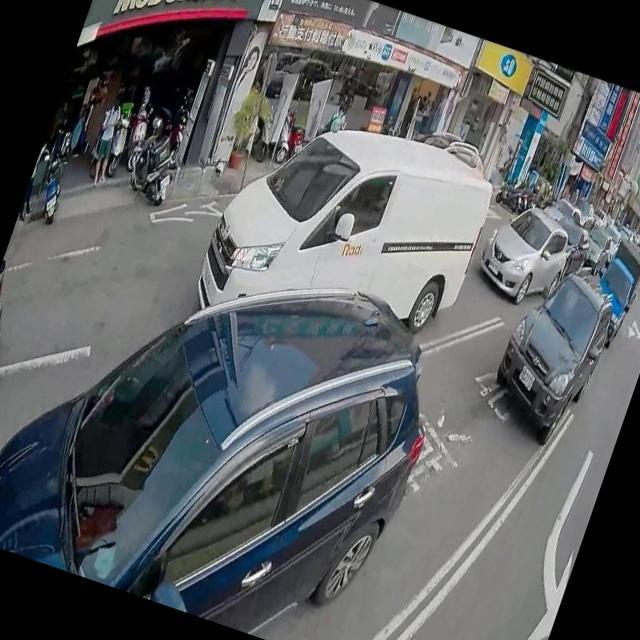person: (82, 96, 132, 188), (62, 77, 106, 165), (316, 102, 342, 138)
